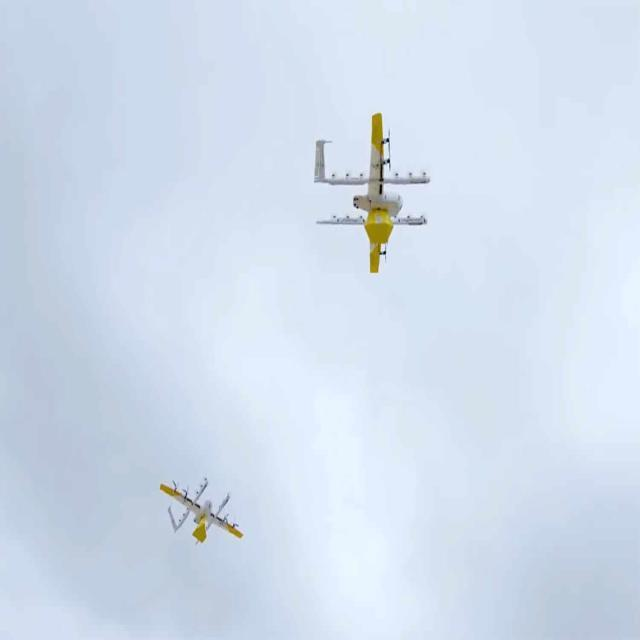iha: (297, 102, 438, 290)
